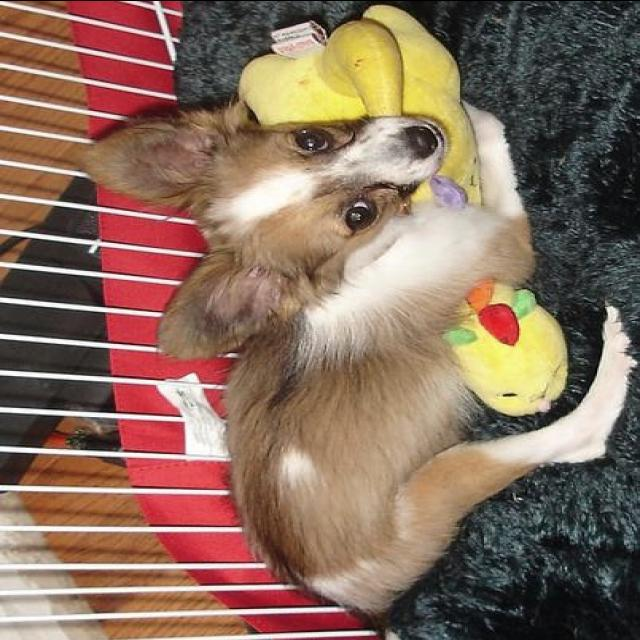papillon: (58, 93, 632, 614)
